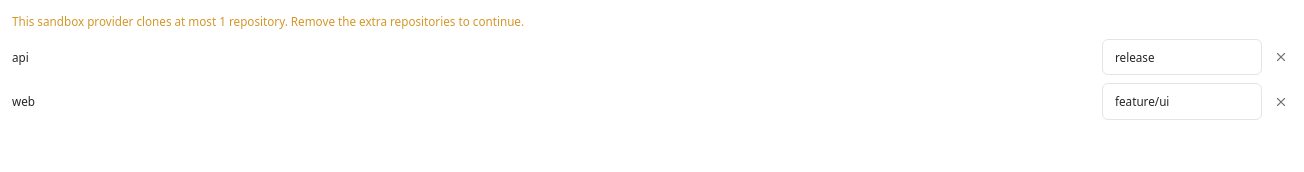
SandboxRepositoryPicker › retains repository branches when switching to a provider with a smaller limit
Expected: the number of elements with test id "sandbox-repo-row" is 2, [12,39,1292,75]; [12,83,1292,120]
Expected: the message shows "at most 1 repository", [12,13,524,29]
Click the button named "Remove api" at (1281, 57), box [1270,46,1292,68]
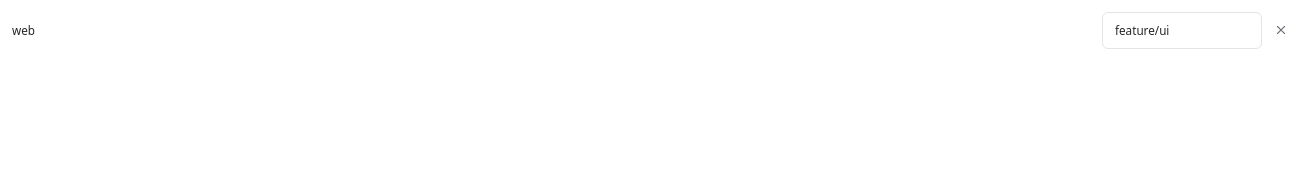
Expected: the message is gone
